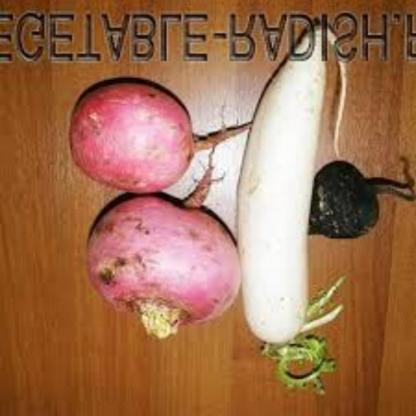redka: (226, 20, 349, 359), (76, 187, 246, 333), (66, 86, 215, 200), (287, 152, 393, 261)
